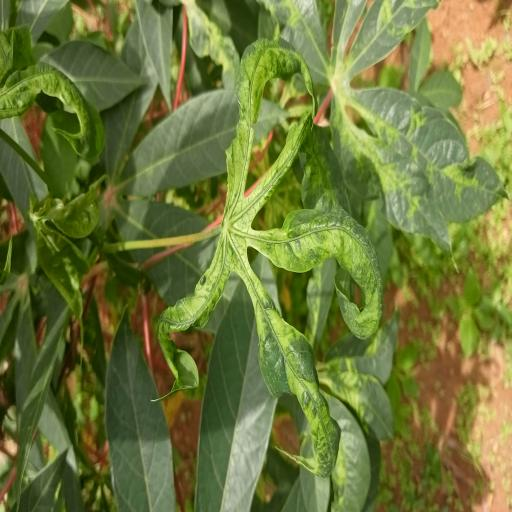Cassava_Mosaic: (159, 32, 385, 479), (265, 0, 510, 250)
